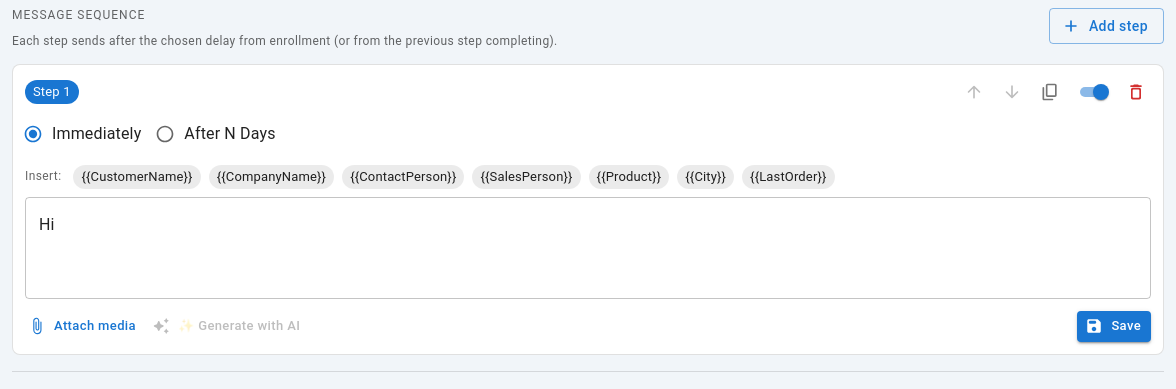
Test: StepMessages › clicking a variable chip inserts the token into the body textarea
Expected: the text "Step 1" is shown, [33,84,71,99]
Click the button "{{Product}}" at [629, 177], box [589,165,669,189]
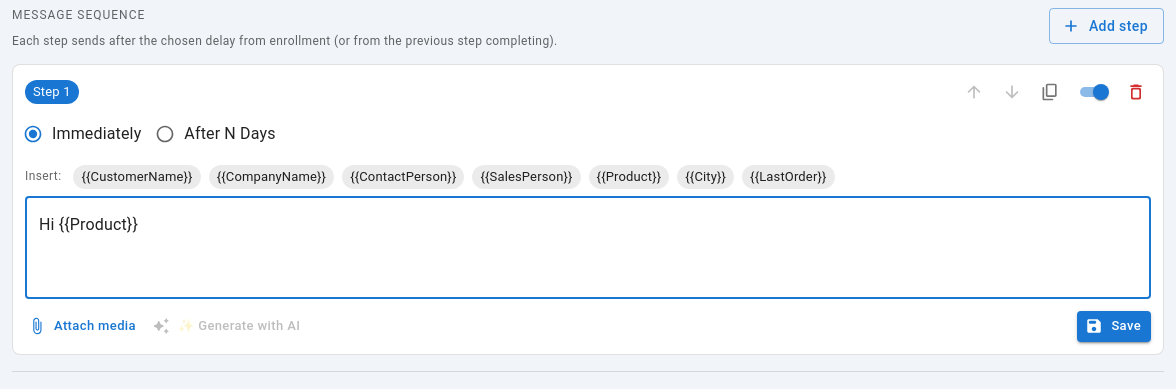
Expected: the text box with placeholder "Hi {{CustomerName}}" holds "Hi {{Product}}", [39,213,1137,282]
